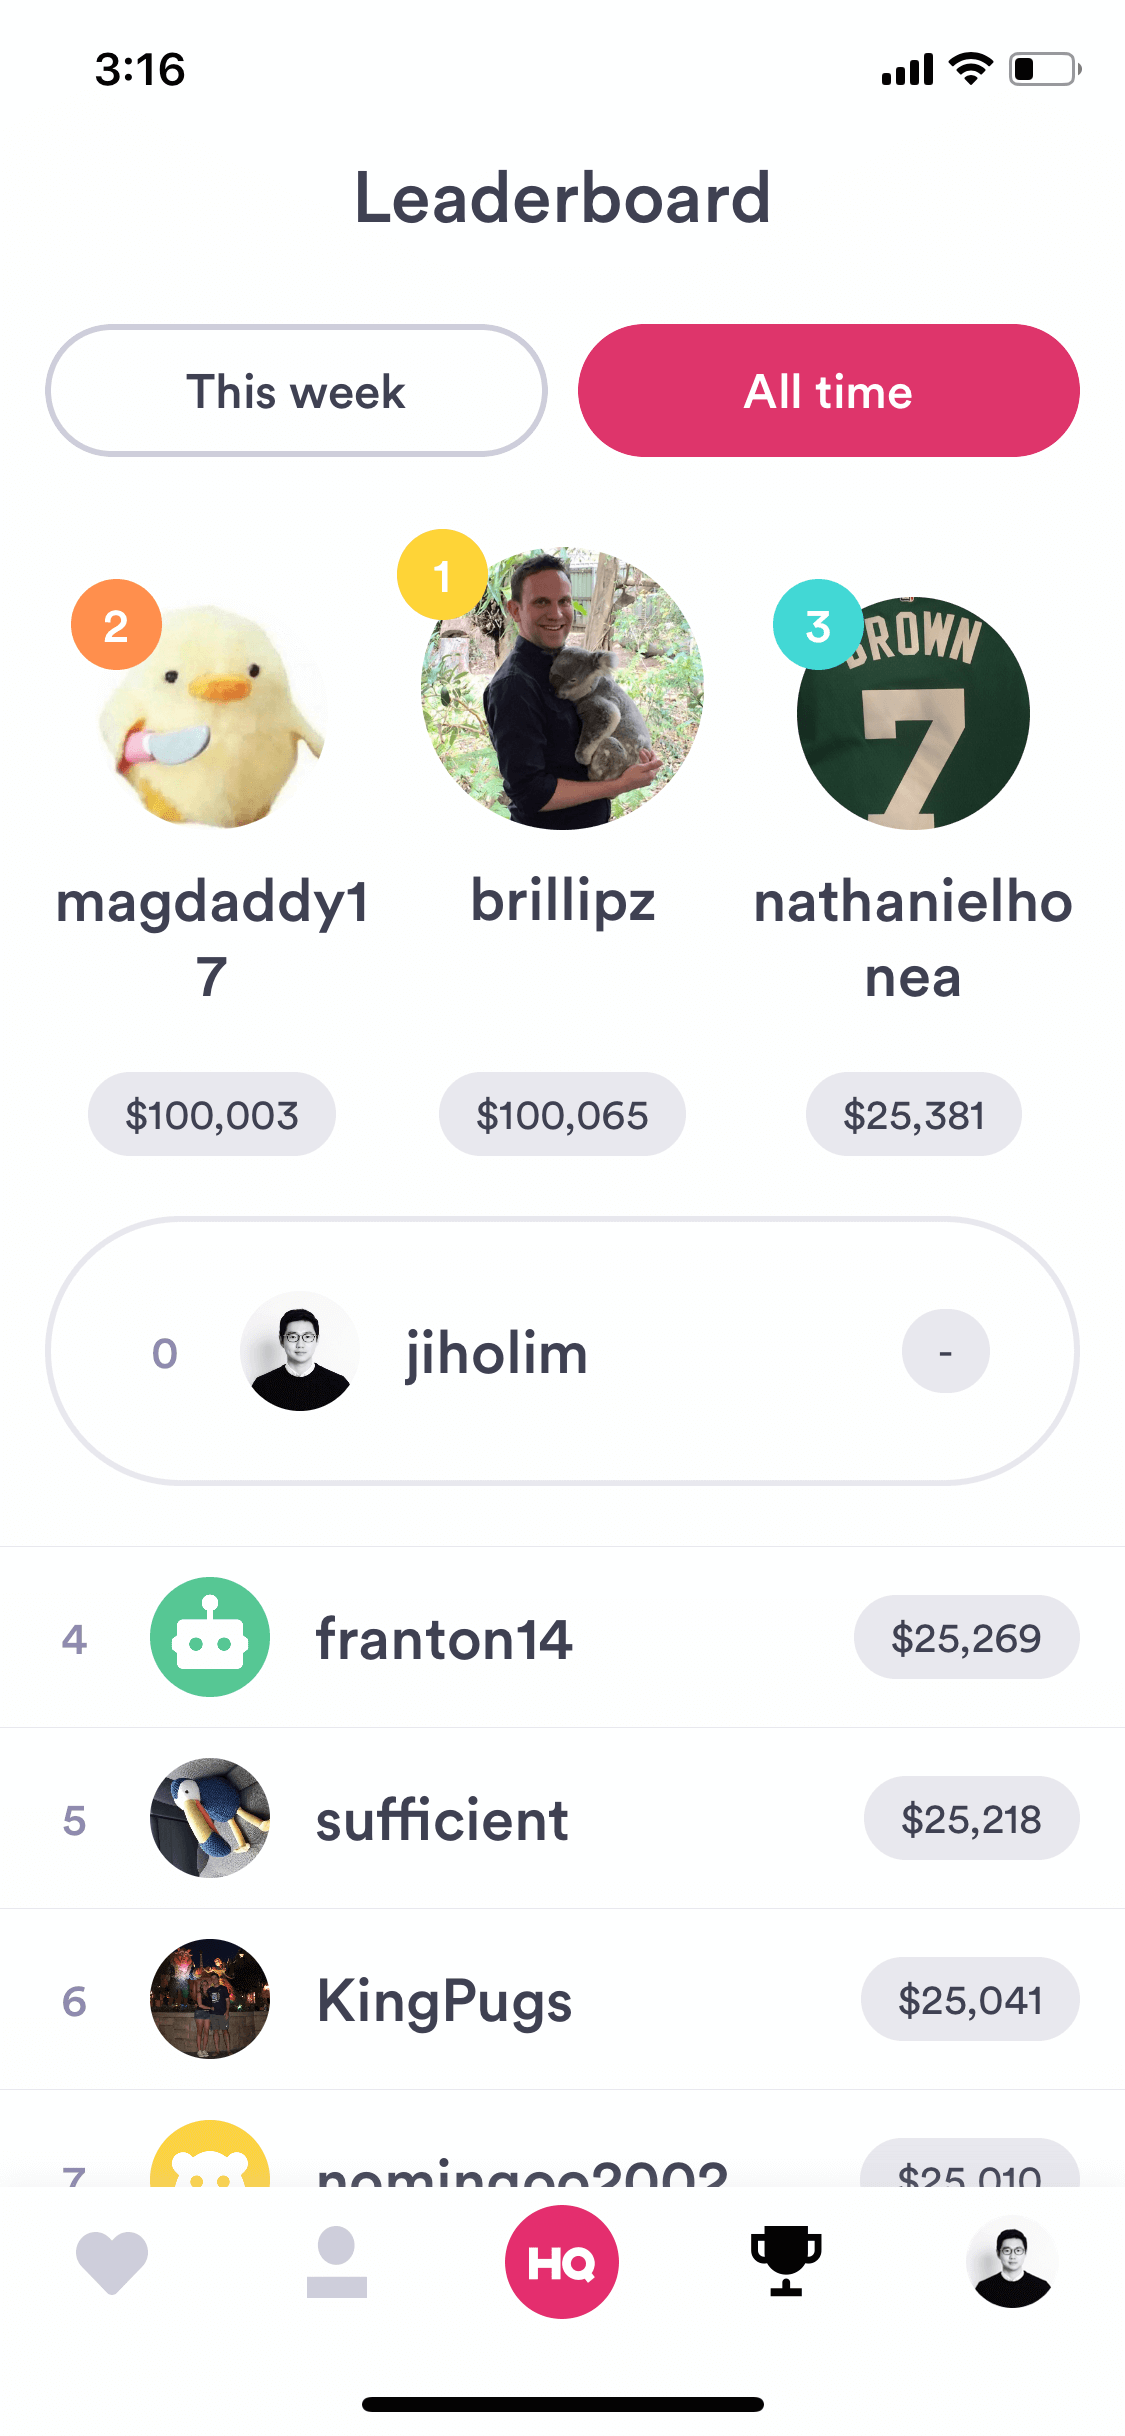Buttons: (580, 323, 1081, 465), (47, 326, 549, 458)
